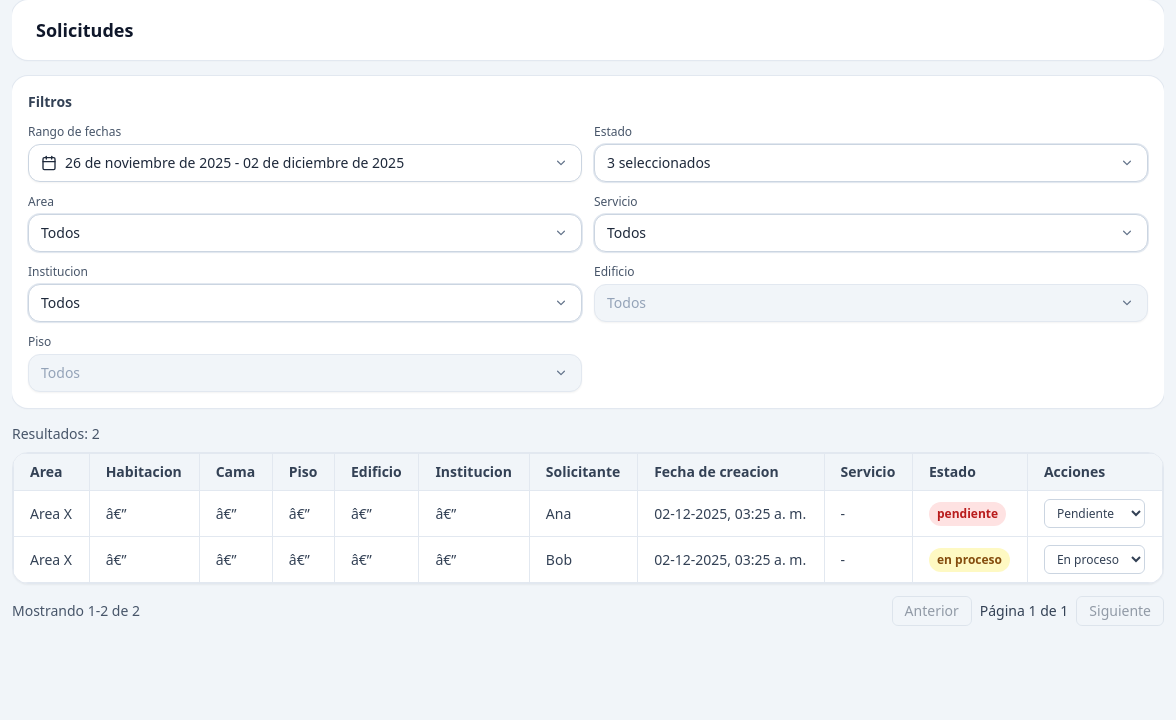
Solicitudes admin flows › can hide results by selecting "Ninguno" on Estado
Expected: the text "Resultados: 2" is shown, top-left (12, 424), bottom-right (100, 443)
Step 1. Click the button "3 seleccionados" → (659, 162), box top-left (594, 144), bottom-right (1148, 182)
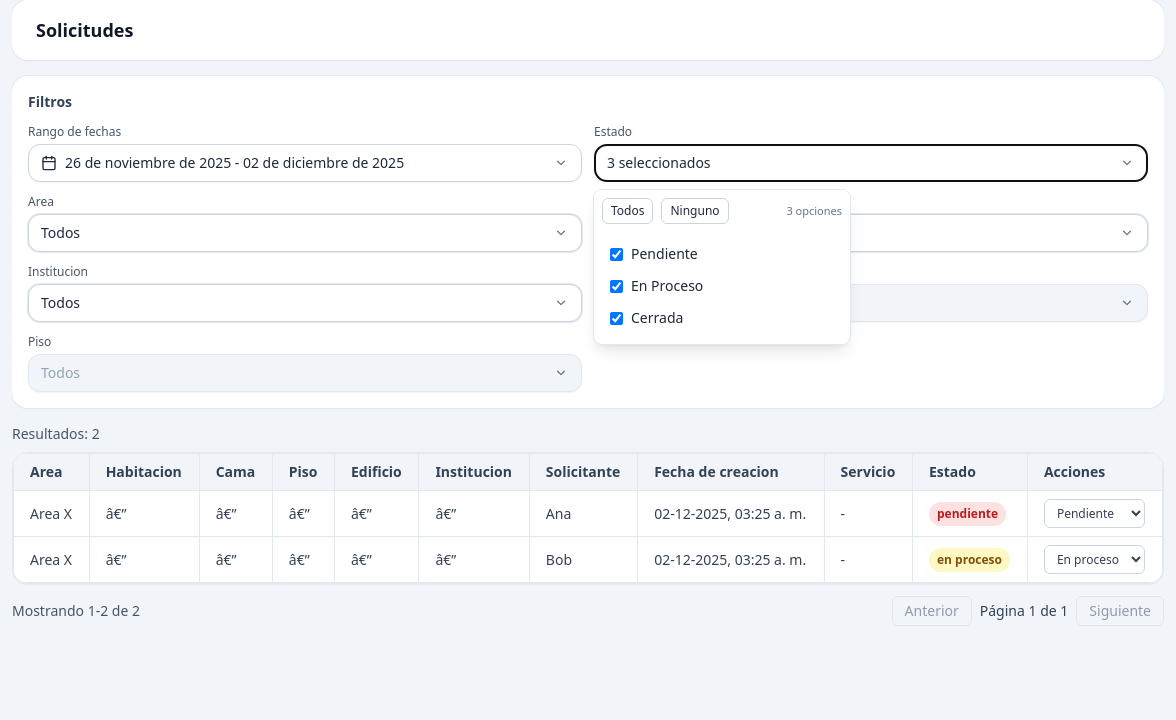
Note: 'Ninguno' button exists in the menu
Step 2. Click the button "Ninguno" → (695, 211), box top-left (662, 198), bottom-right (729, 224)
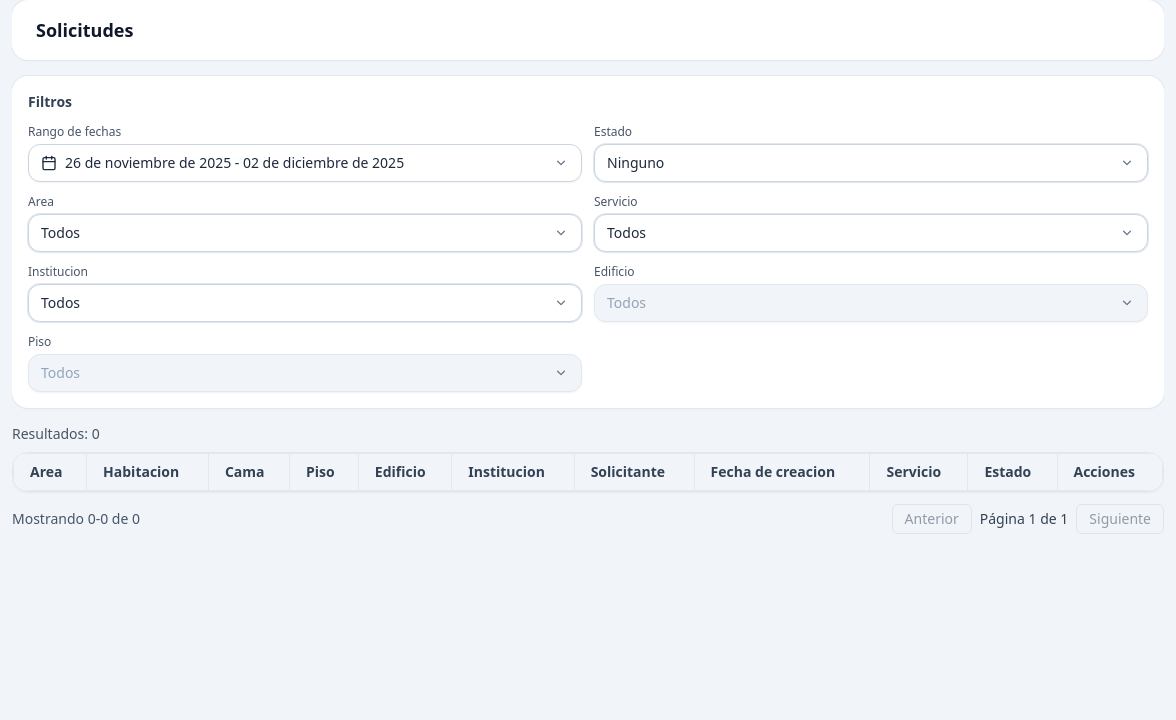
Now the text "Resultados: 0" is shown, box top-left (12, 424), bottom-right (100, 443)
